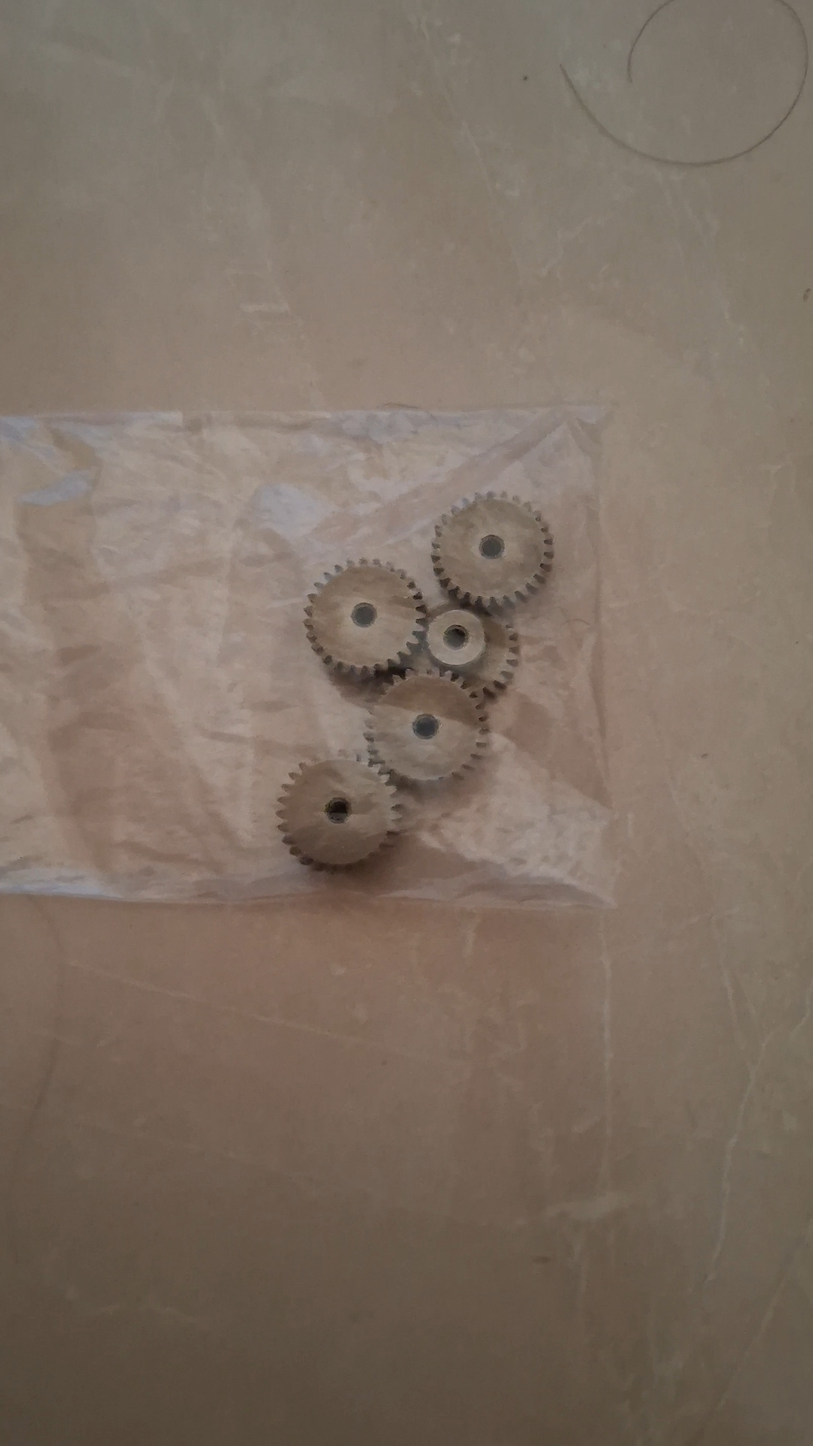spur gear: (305, 560, 426, 678), (432, 493, 553, 610), (277, 758, 400, 868), (365, 672, 487, 782), (426, 605, 486, 675)
